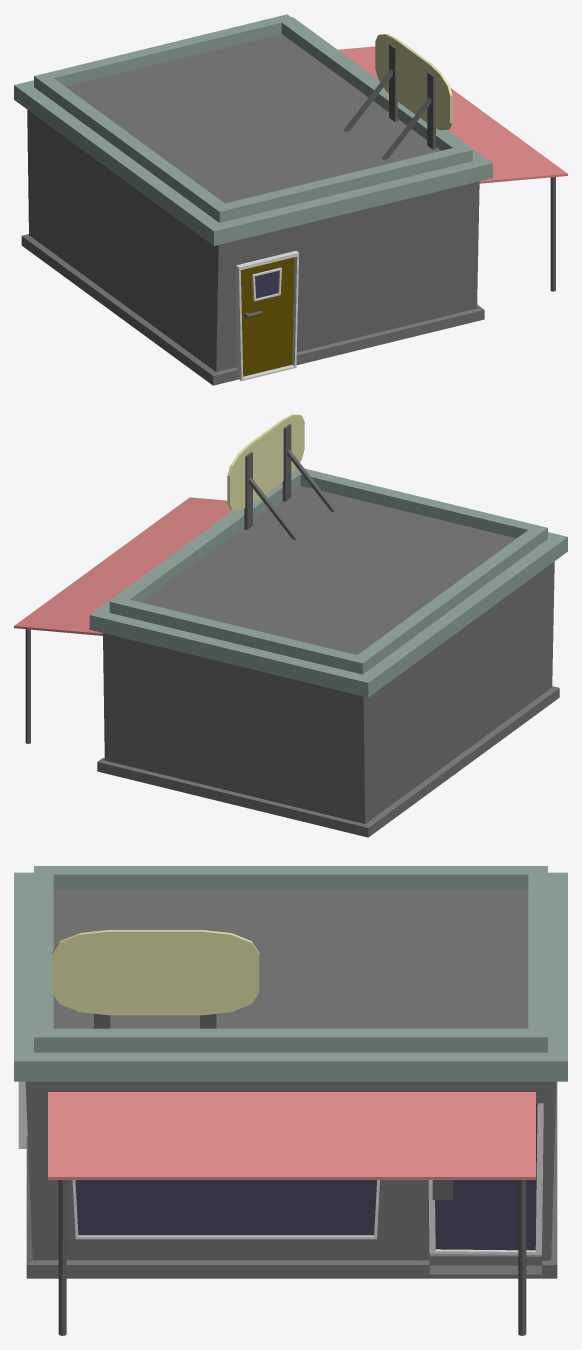
Rendered from Shop front 001.fbx.
The picture shows the model from 3 angles, top to bottom: view 1: azimuth 30°, elevation 25°; view 2: azimuth 150°, elevation 25°; view 3: azimuth 270°, elevation 25°; orthographic projection. The views are drawn at different scales.
Visible parts, largest first — view 1: shop_front_Mesh; view 2: shop_front_Mesh; view 3: shop_front_Mesh.
Boxes of the visible parts, box(x1,y1,x2,y2) form: shop_front_Mesh: box(14, 14, 567, 385); shop_front_Mesh: box(14, 414, 567, 837); shop_front_Mesh: box(14, 866, 567, 1335).
Bounding box in the file's own units: 6 × 3.75 × 5.67.
